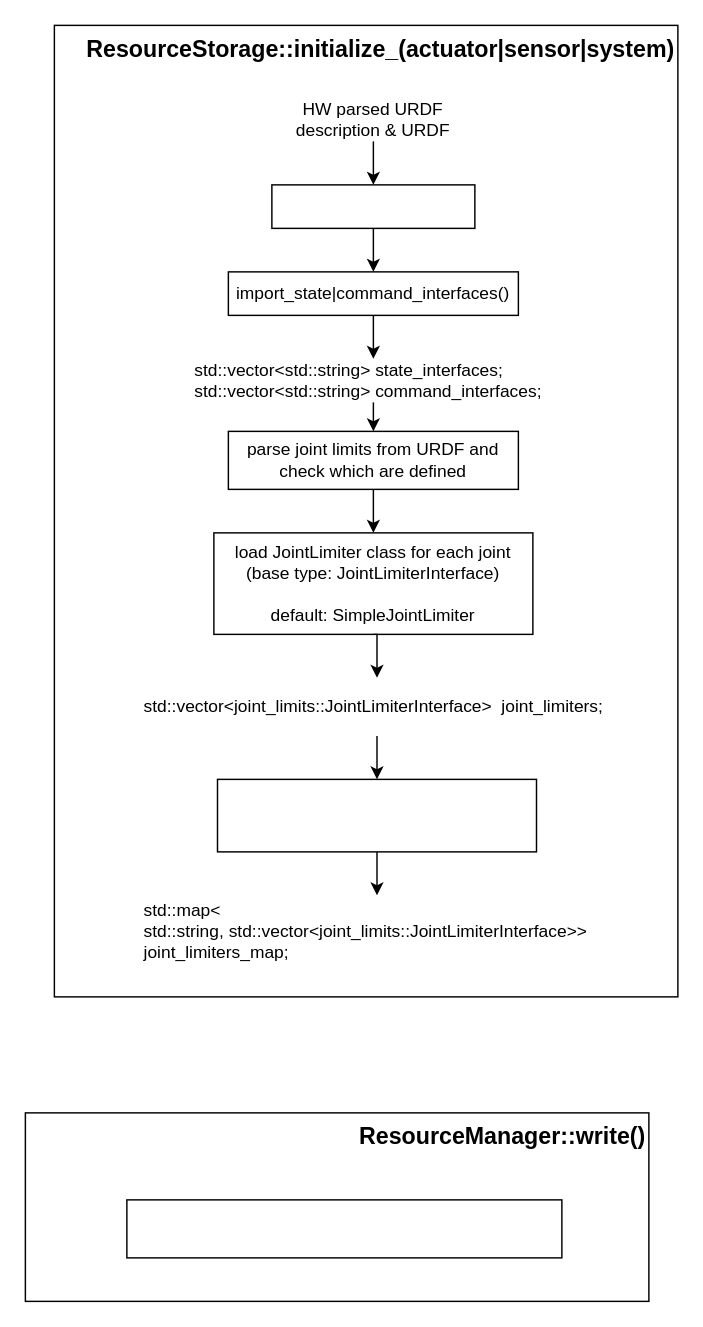
Image size: 703x1327. Some labels were removed from this diagram. The shapes that lost their labels are listed below. From the top down, each one's centre as x and y in pixels, then its label:
pixel 372 205: initialize_hardware()
pixel 376 815: store limiters in a map with hardware component name as key
pixel 343 1228: call "enforce_limits" for joints of each component()
